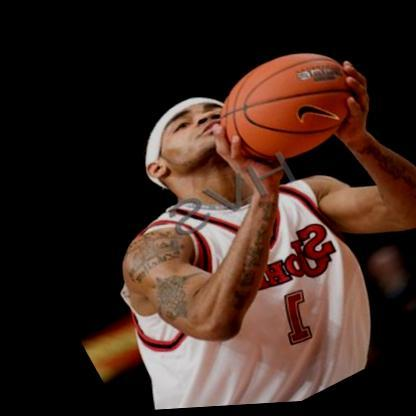basketball: (192, 32, 375, 184)
